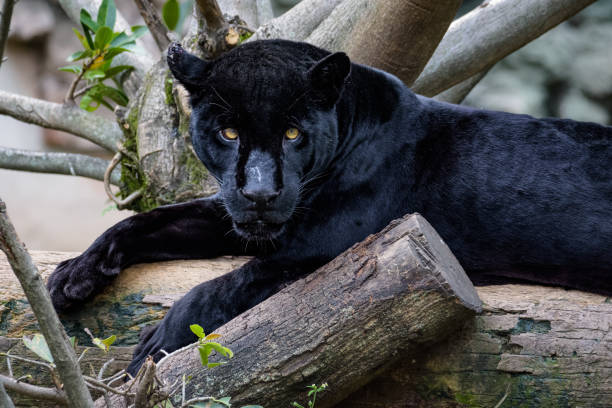panther: (157, 31, 383, 247)
